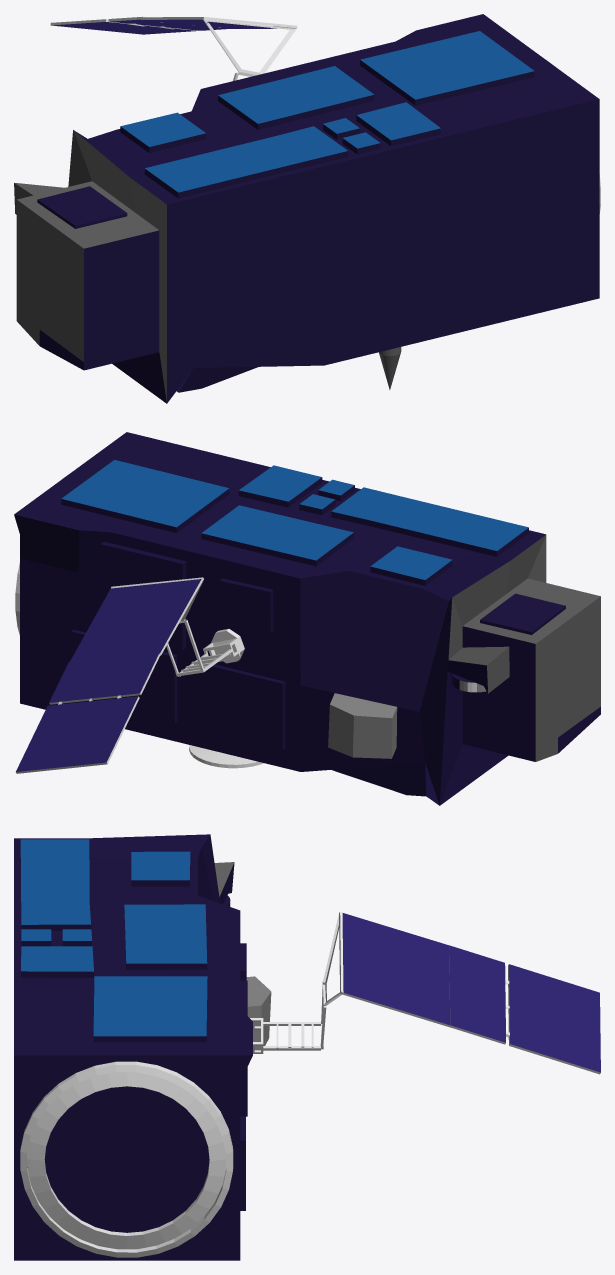
Rendered from sentinel3.glb.
The picture shows the model from 3 angles, top to bottom: view 1: azimuth 30°, elevation 25°; view 2: azimuth 150°, elevation 25°; view 3: azimuth 270°, elevation 25°; orthographic projection. The views are drawn at different scales.
Parts seen in each view (by area): view 1: Cube, Cilindro.001, Cono.001; view 2: Cube, Cilindro.001, Cilindro.003; view 3: Cube, Cilindro.001, Cilindro, Cilindro.002.
Part boxes in pixels (bbox=[...]): Cube: bbox=[14, 14, 599, 403]; Cilindro.001: bbox=[50, 16, 297, 80]; Cono.001: bbox=[379, 347, 401, 389]; Cube: bbox=[14, 432, 600, 805]; Cilindro.001: bbox=[16, 577, 244, 773]; Cilindro.003: bbox=[189, 745, 263, 768]; Cube: bbox=[14, 834, 271, 1260]; Cilindro.001: bbox=[250, 911, 600, 1074]; Cilindro: bbox=[27, 1072, 226, 1249]; Cilindro.002: bbox=[20, 1061, 233, 1257].
Bounding box in the file's own units: 10.64 × 5.82 × 10.26.
